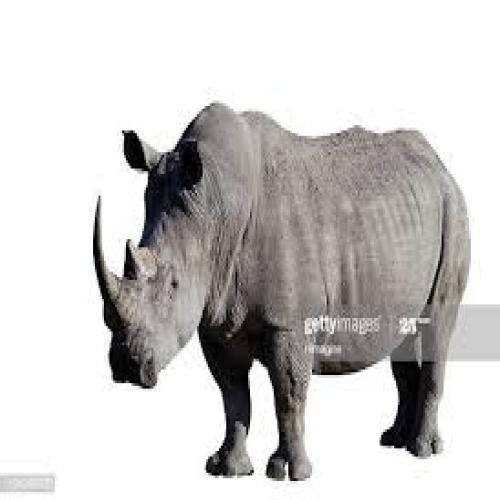rhino-endangered: (90, 96, 472, 480)
